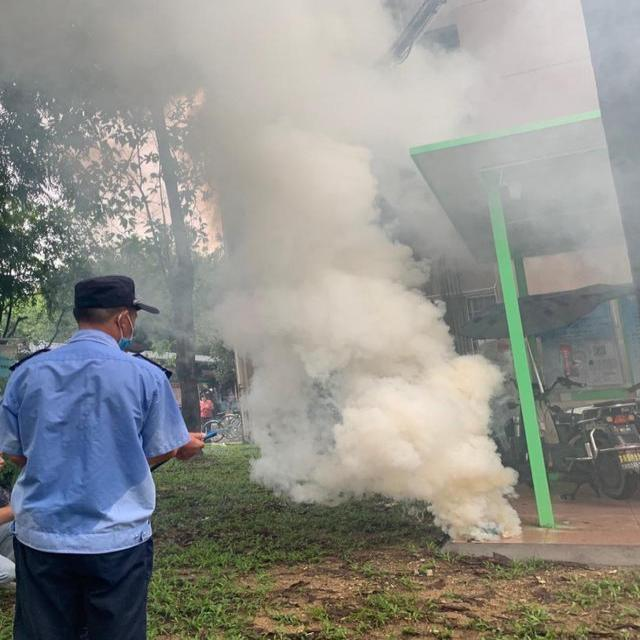Smoke: (195, 2, 522, 540), (0, 0, 193, 144)
